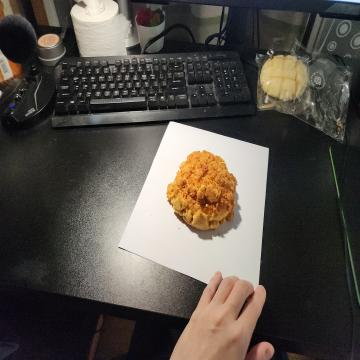soboru_bread: (166, 147, 240, 237)
